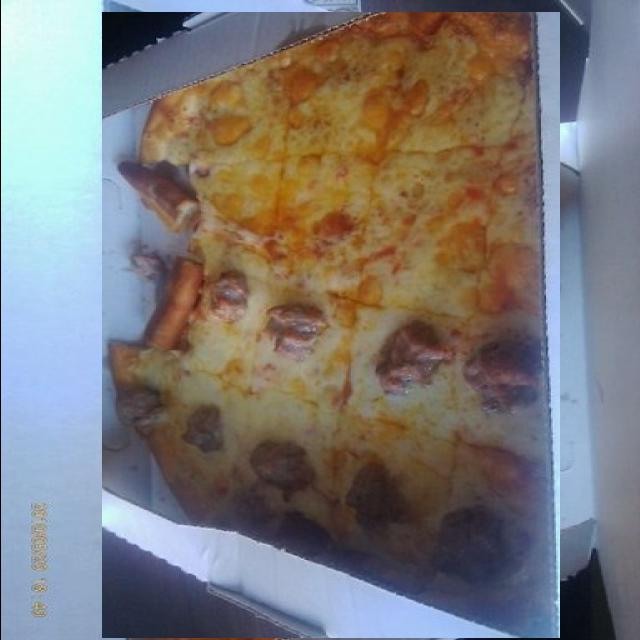pizza: (101, 12, 559, 638)
